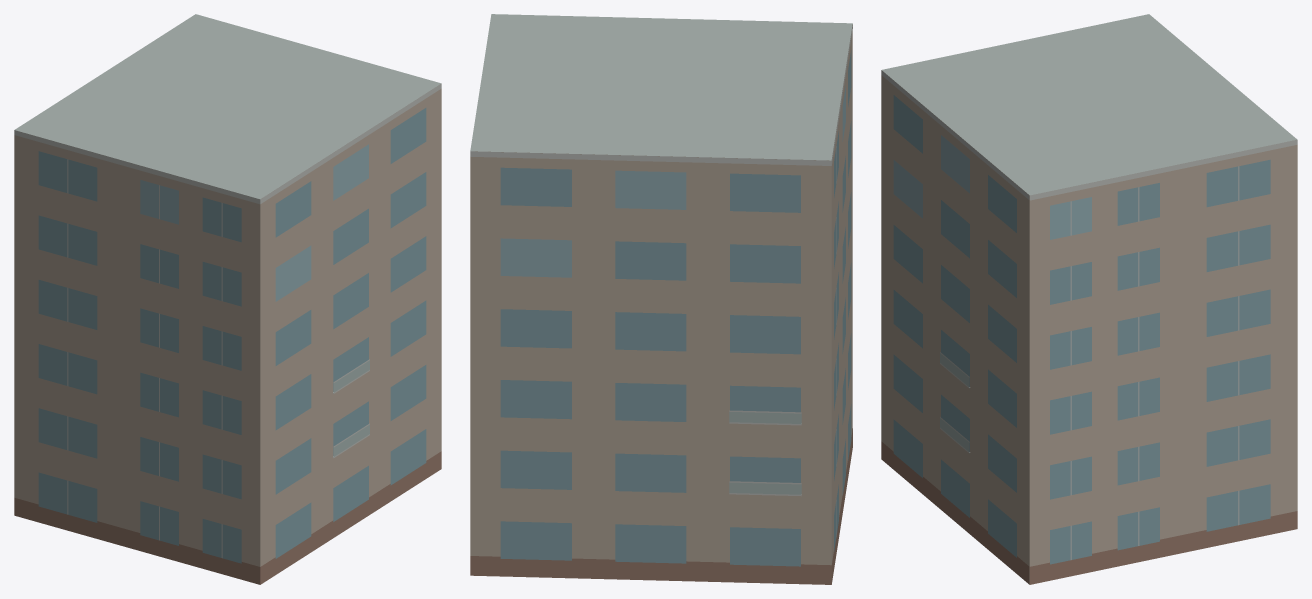
File: survey-upis-32994272.glb
3 views of the same model, side by side, from view 1: azimuth 30°, elevation 25°; view 2: azimuth 150°, elevation 25°; view 3: azimuth 270°, elevation 25° (orthographic). The views are drawn at different scales.
Parts seen in each view (by area): view 1: survey-upis-32994272.tmp; view 2: survey-upis-32994272.tmp; view 3: survey-upis-32994272.tmp.
Part boxes in pixels (bbox=[...]): survey-upis-32994272.tmp: bbox=[14, 14, 441, 584]; survey-upis-32994272.tmp: bbox=[470, 14, 852, 584]; survey-upis-32994272.tmp: bbox=[881, 14, 1297, 584].
Bounding box in the file's own units: 18.7 × 18.7 × 18.12.
